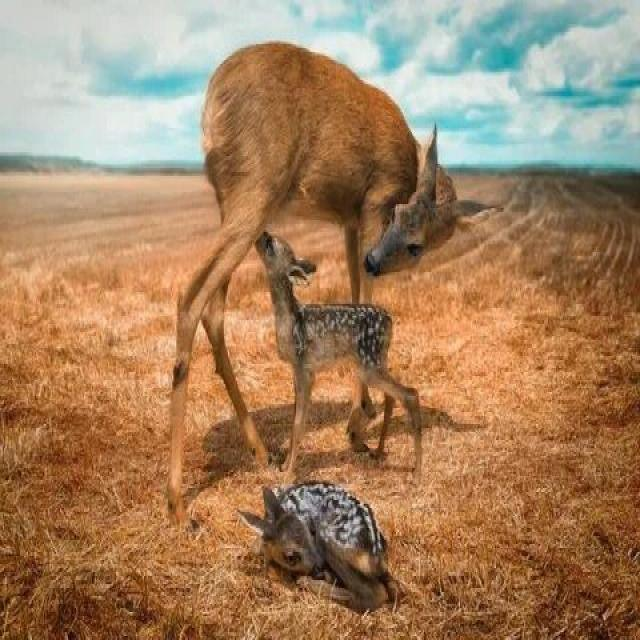deer: (136, 0, 456, 452), (260, 216, 410, 485)
